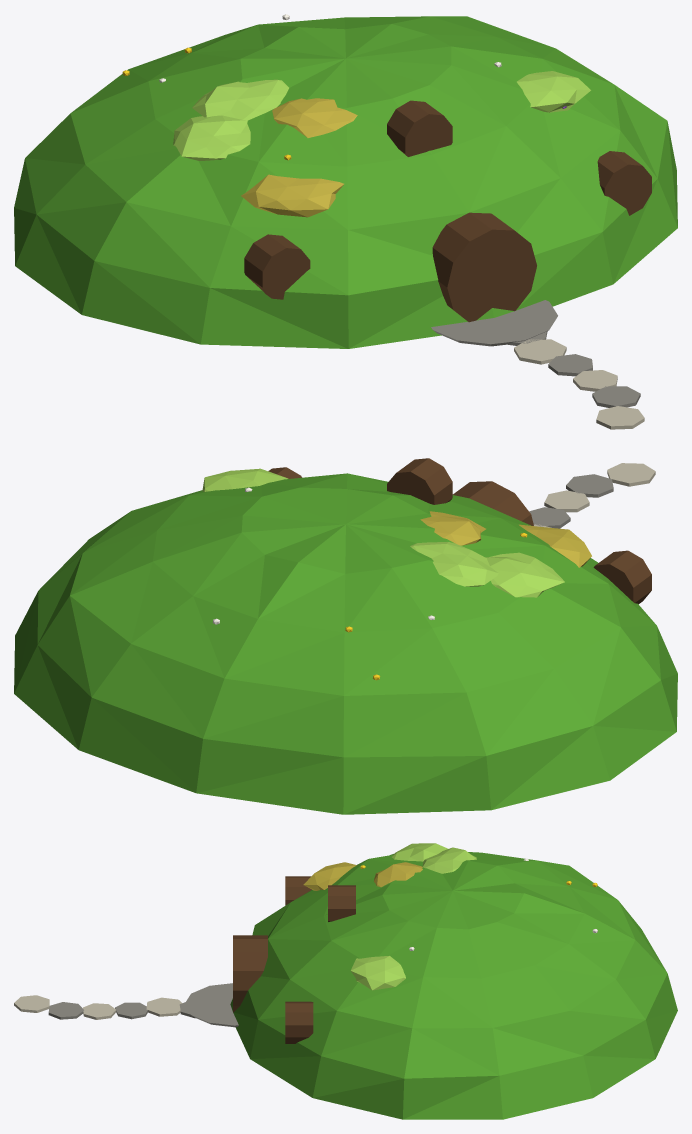
File: hobbit_hole_3.glb
3 views of the same model, one above another, from view 1: azimuth 30°, elevation 25°; view 2: azimuth 150°, elevation 25°; view 3: azimuth 270°, elevation 25° (orthographic). The views are drawn at different scales.
Parts seen in each view (by area): view 1: hobbit_hole_3; view 2: hobbit_hole_3; view 3: hobbit_hole_3.
Boxes of the visible parts, box(x1,y1,x2,y2) form: hobbit_hole_3: box(14, 14, 677, 429); hobbit_hole_3: box(14, 458, 677, 814); hobbit_hole_3: box(14, 843, 677, 1119).
Size of what is drawn, in the model's own units: 14.82 by 3.92 by 19.06.
